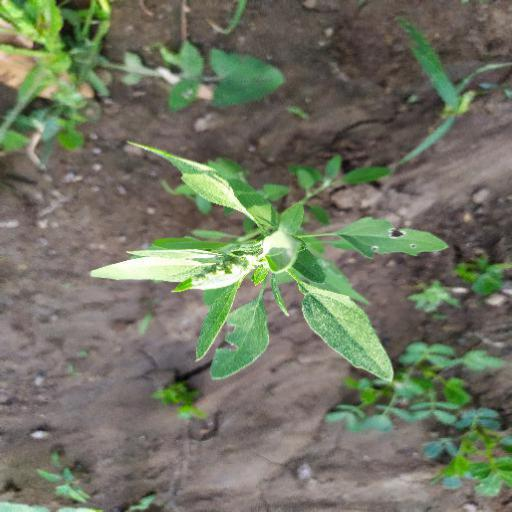weed: (88, 132, 448, 392)
